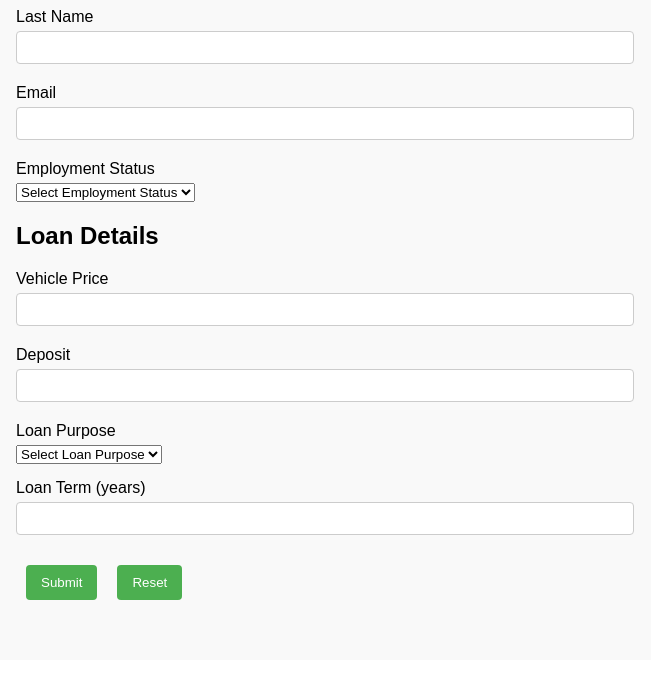
Test: Loan Application Form › should show validation errors if required fields are missing
The width and height of the screenshot is (651, 688).
(page scrolled)
Click the submit button at (62, 583), box [26,565,98,600]
(page scrolled)
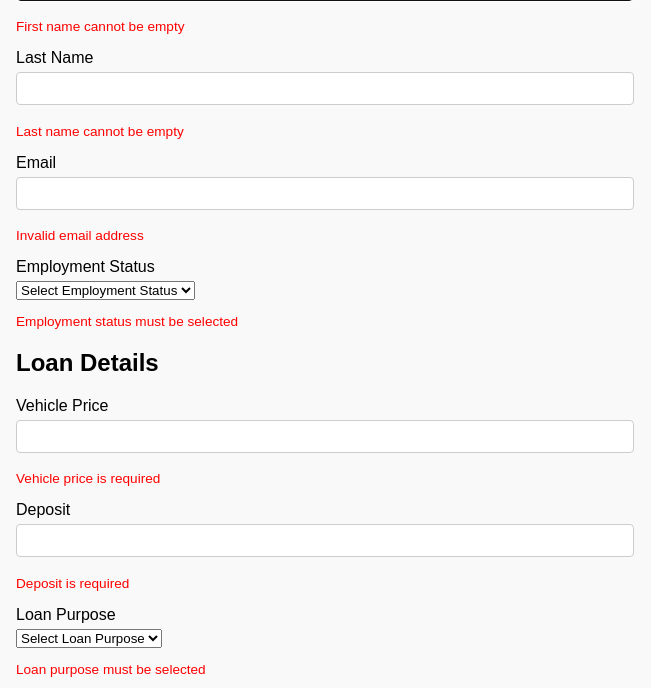
Expected: the text "First name cannot be empty" is shown, [16,19,184,34]
Expected: the text "Last name cannot be empty" is shown, [16,124,184,139]
Expected: the text "Invalid email address" is shown, [16,228,144,244]
